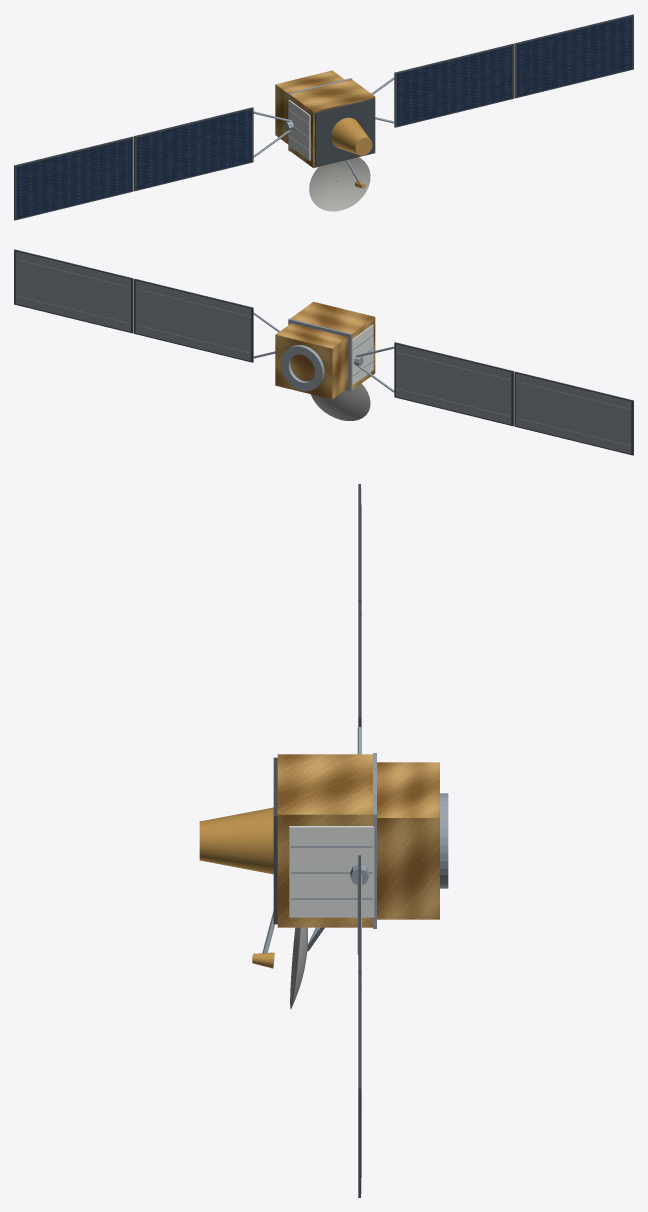
Rendered from ref-adv-satcom-13631.glb.
3 views of the same model, one above another, from view 1: azimuth 30°, elevation 25°; view 2: azimuth 150°, elevation 25°; view 3: azimuth 270°, elevation 25° (orthographic). The views are drawn at different scales.
Visible parts, largest first — view 1: Solar cell panel (×4), Solar panel frame (×4), Communications reflector, Earth-facing deck, Payload module, Service module, Axial antenna horn, Radiator face; view 2: Rear array substrate (×4), Service module, Solar panel frame (×4), Payload module, Communications reflector, Launch adapter ring, Radiator face, Module interface; view 3: Service module, Payload module, Radiator face, Axial antenna horn.
Boxes of the visible parts, bbox=[...] form: Solar cell panel (×4): bbox=[16, 16, 632, 218]; Solar panel frame (×4): bbox=[14, 14, 633, 220]; Communications reflector: bbox=[309, 157, 370, 211]; Earth-facing deck: bbox=[314, 98, 375, 167]; Payload module: bbox=[289, 79, 375, 168]; Service module: bbox=[275, 70, 344, 144]; Axial antenna horn: bbox=[331, 117, 372, 155]; Radiator face: bbox=[288, 100, 310, 160]; Rear array substrate (×4): bbox=[15, 251, 631, 453]; Service module: bbox=[275, 323, 348, 399]; Solar panel frame (×4): bbox=[14, 249, 633, 455]; Payload module: bbox=[290, 301, 375, 389]; Communications reflector: bbox=[311, 383, 370, 420]; Launch adapter ring: bbox=[281, 345, 324, 390]; Radiator face: bbox=[351, 324, 373, 385]; Module interface: bbox=[288, 318, 352, 391]; Service module: bbox=[377, 762, 439, 919]; Payload module: bbox=[277, 754, 372, 927]; Radiator face: bbox=[289, 826, 374, 917]; Axial antenna horn: bbox=[199, 807, 273, 874].
Size of the model in its own units: 13.97 by 2.35 by 2.43.
Materials: 8 (2 with a texture image).
